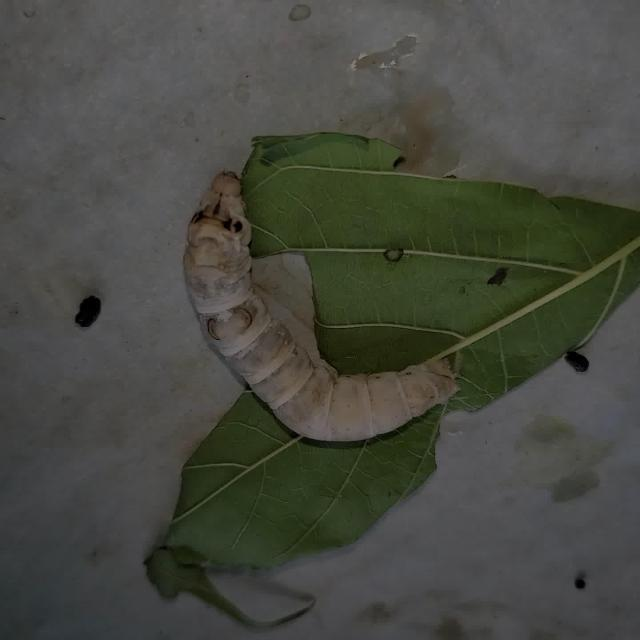Grasserie: (160, 123, 486, 477)
